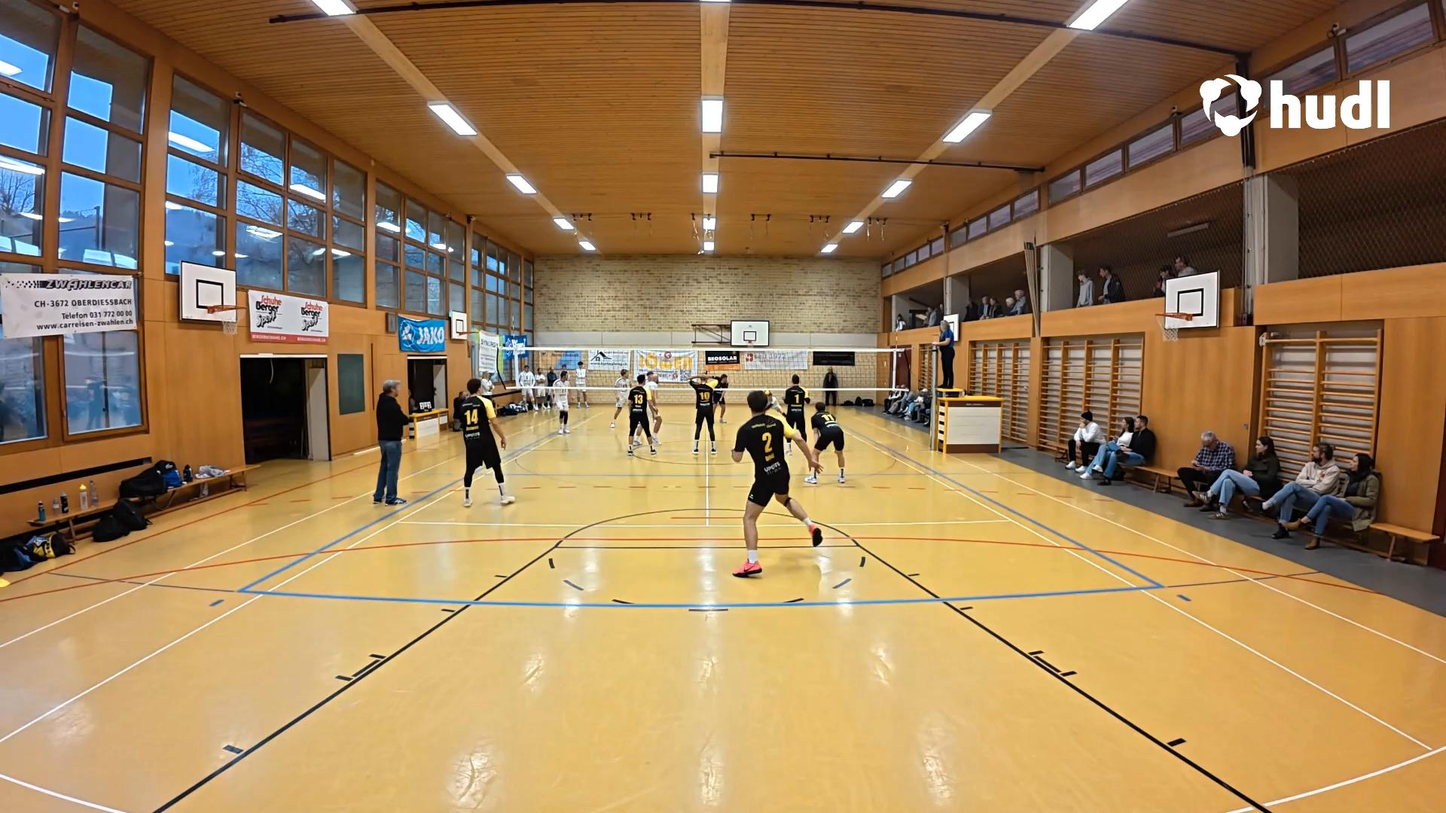Player: (728, 394, 818, 577), (451, 377, 513, 506), (806, 392, 846, 483), (688, 372, 725, 453), (622, 376, 657, 459), (642, 368, 666, 448), (781, 374, 812, 431), (549, 367, 573, 434), (609, 362, 631, 428), (712, 371, 731, 427)
Receive: (762, 386, 789, 419)
ball: (763, 387, 773, 397)
